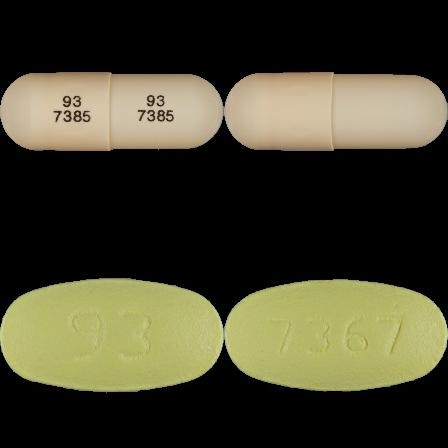66116-447: (0, 0, 224, 224)
